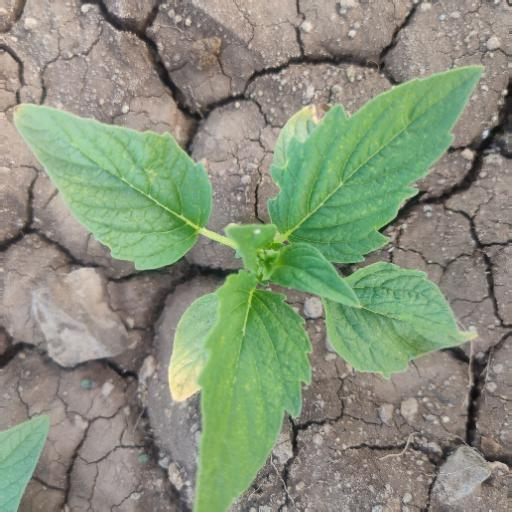crop: (6, 58, 487, 512)
